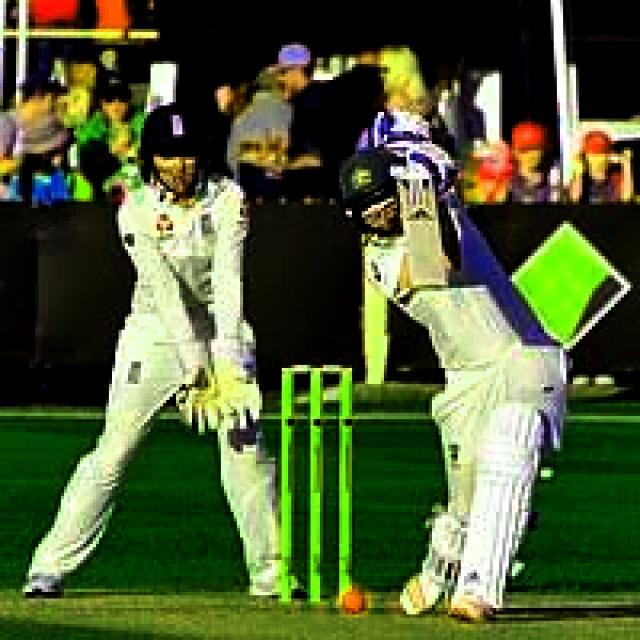bat: (392, 166, 454, 297)
toe: (411, 283, 452, 296)
